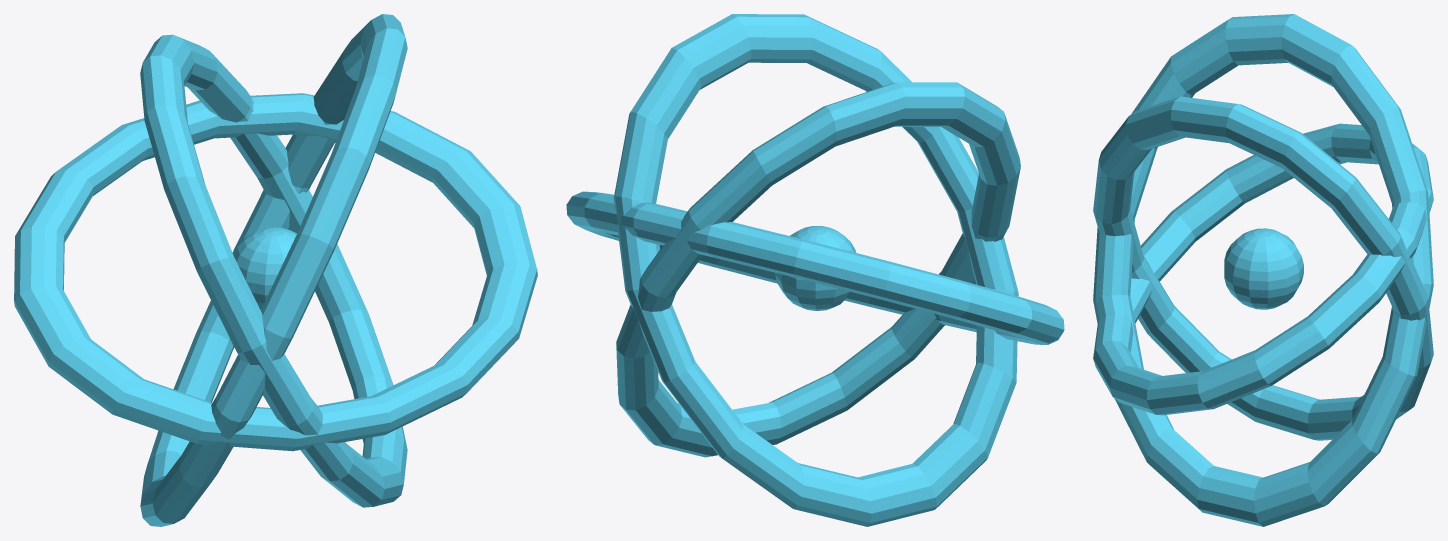
The picture shows the model from 3 angles, left to right: view 1: azimuth 30°, elevation 25°; view 2: azimuth 150°, elevation 25°; view 3: azimuth 270°, elevation 25°; orthographic projection. The views are drawn at different scales.
Parts seen in each view (by area): view 1: Torus.001, Torus.002, Torus.003, Sphere; view 2: Torus.003, Torus.002, Torus.001, Sphere; view 3: Torus.002, Torus.003, Torus.001, Sphere.
Boxes of the visible parts, x1=… form: Torus.001: x1=14, y1=93, x2=537, y2=451; Torus.002: x1=140, y1=34, x2=407, y2=507; Torus.003: x1=140, y1=14, x2=407, y2=526; Sphere: x1=233, y1=227, x2=296, y2=310; Torus.003: x1=614, y1=14, x2=1018, y2=526; Torus.002: x1=616, y1=82, x2=1020, y2=457; Torus.001: x1=566, y1=191, x2=1064, y2=344; Sphere: x1=775, y1=226, x2=856, y2=310; Torus.002: x1=1093, y1=14, x2=1433, y2=526; Torus.003: x1=1093, y1=96, x2=1433, y2=440; Torus.001: x1=1093, y1=123, x2=1433, y2=415; Sphere: x1=1224, y1=228, x2=1303, y2=309.
Size of the model in its own units: 4.4 by 3.93 by 2.92.
